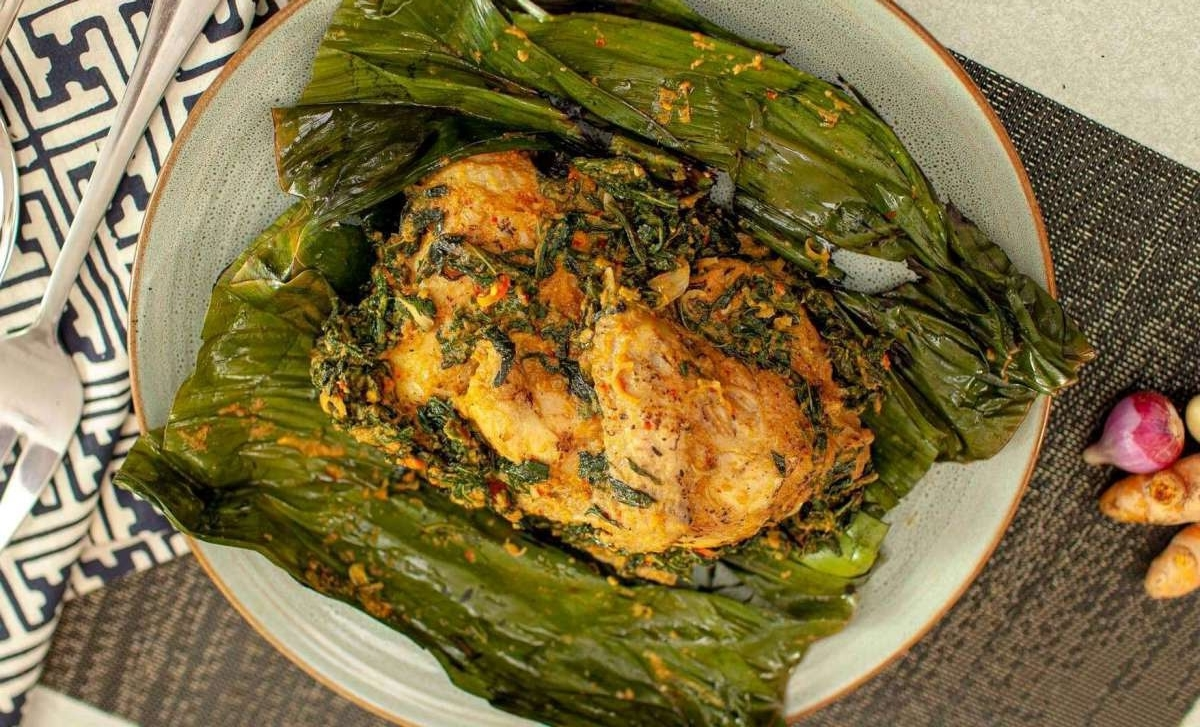ayam_betutu: (367, 152, 869, 562)
